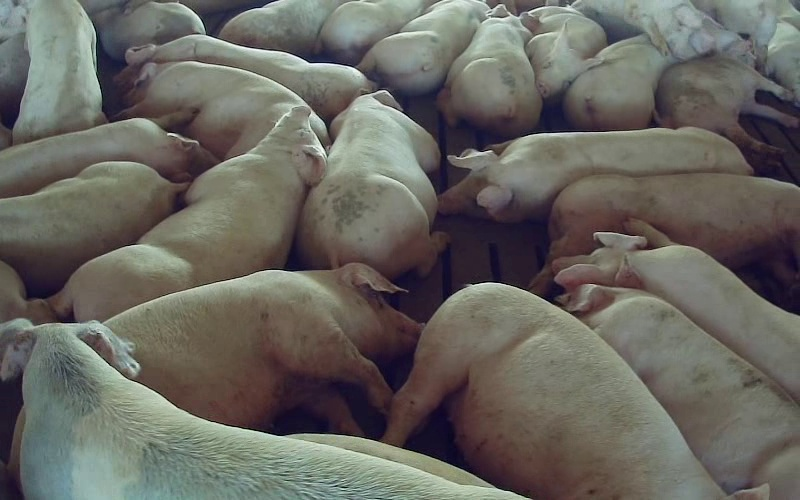pig: (383, 284, 723, 499), (51, 106, 325, 320), (558, 263, 799, 499), (104, 263, 420, 433), (554, 219, 799, 402), (529, 173, 799, 298), (439, 128, 751, 222), (296, 91, 448, 278), (0, 162, 187, 295), (115, 35, 373, 121), (117, 61, 303, 159), (0, 118, 217, 197), (655, 57, 797, 172), (437, 4, 541, 137), (562, 34, 671, 130), (526, 6, 606, 102), (319, 0, 433, 65), (219, 0, 347, 56)
